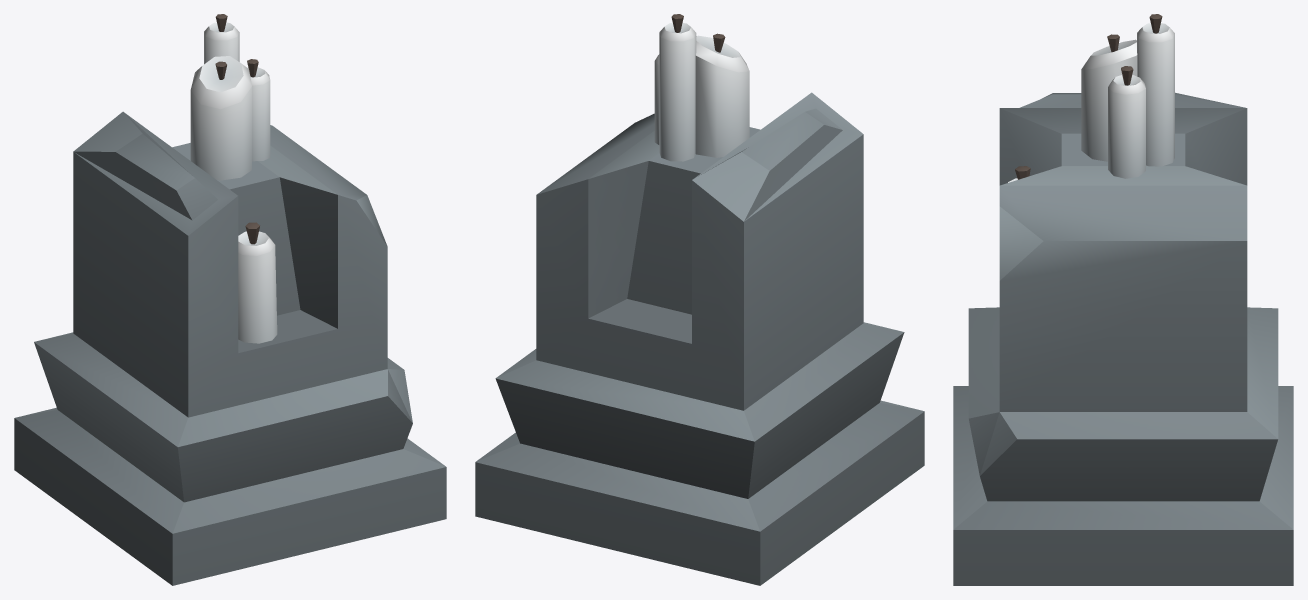
File: shrine_candles.glb
3 views of the same model, side by side, from view 1: azimuth 30°, elevation 25°; view 2: azimuth 150°, elevation 25°; view 3: azimuth 270°, elevation 25° (orthographic). The views are drawn at different scales.
Visible parts, largest first — view 1: shrine_candles; view 2: shrine_candles; view 3: shrine_candles.
Part boxes in pixels (x1,y1,x2,y2): shrine_candles: (14,14,446,585); shrine_candles: (475,14,924,585); shrine_candles: (953,14,1293,585).
Size of the model in its own units: 1.1 by 1.79 by 1.1.
1 material, 1 textured.
